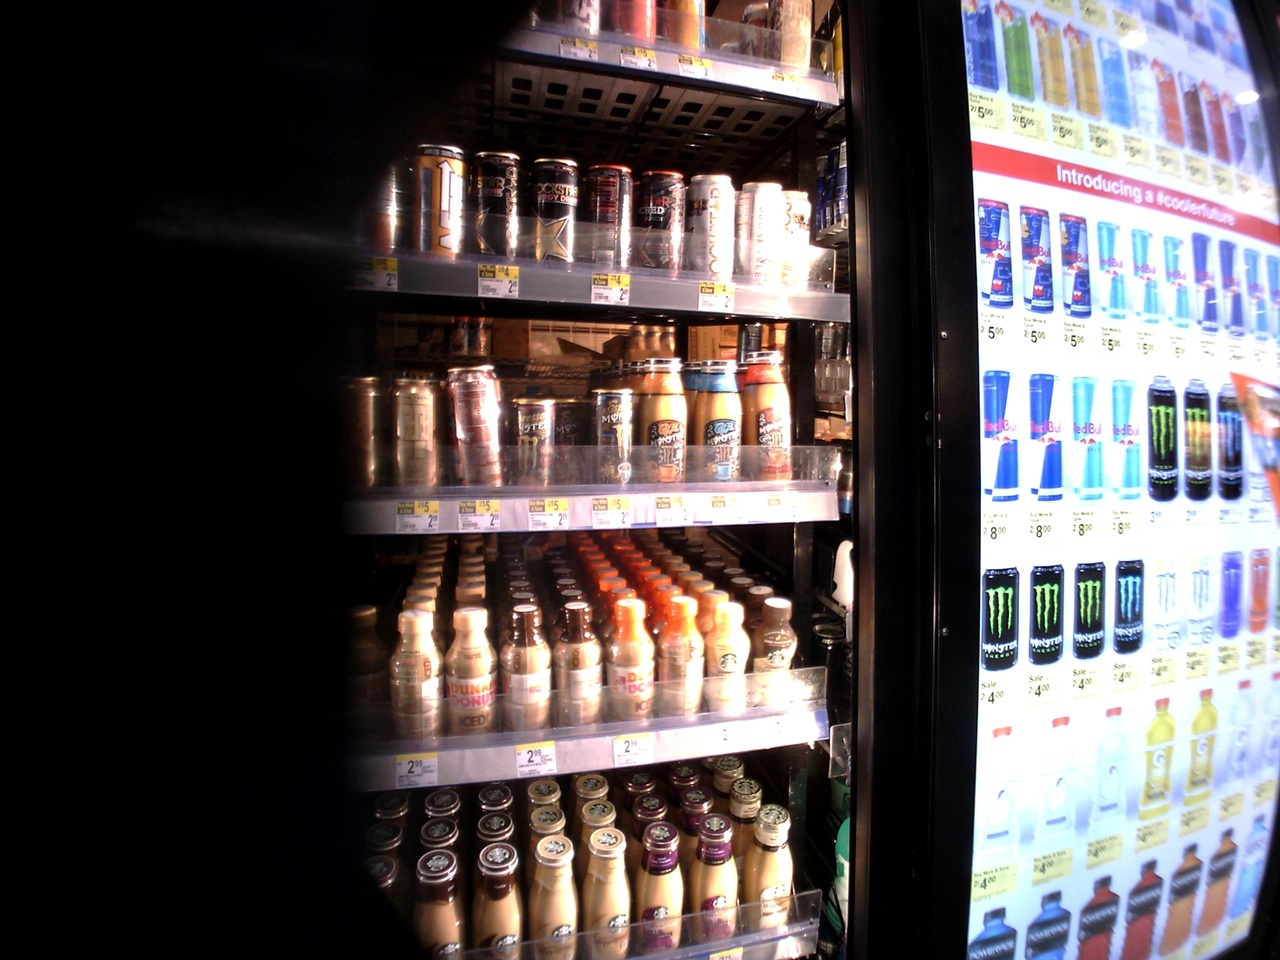shelf: (310, 746, 863, 953), (351, 525, 844, 750), (343, 320, 840, 535), (342, 115, 850, 301)
